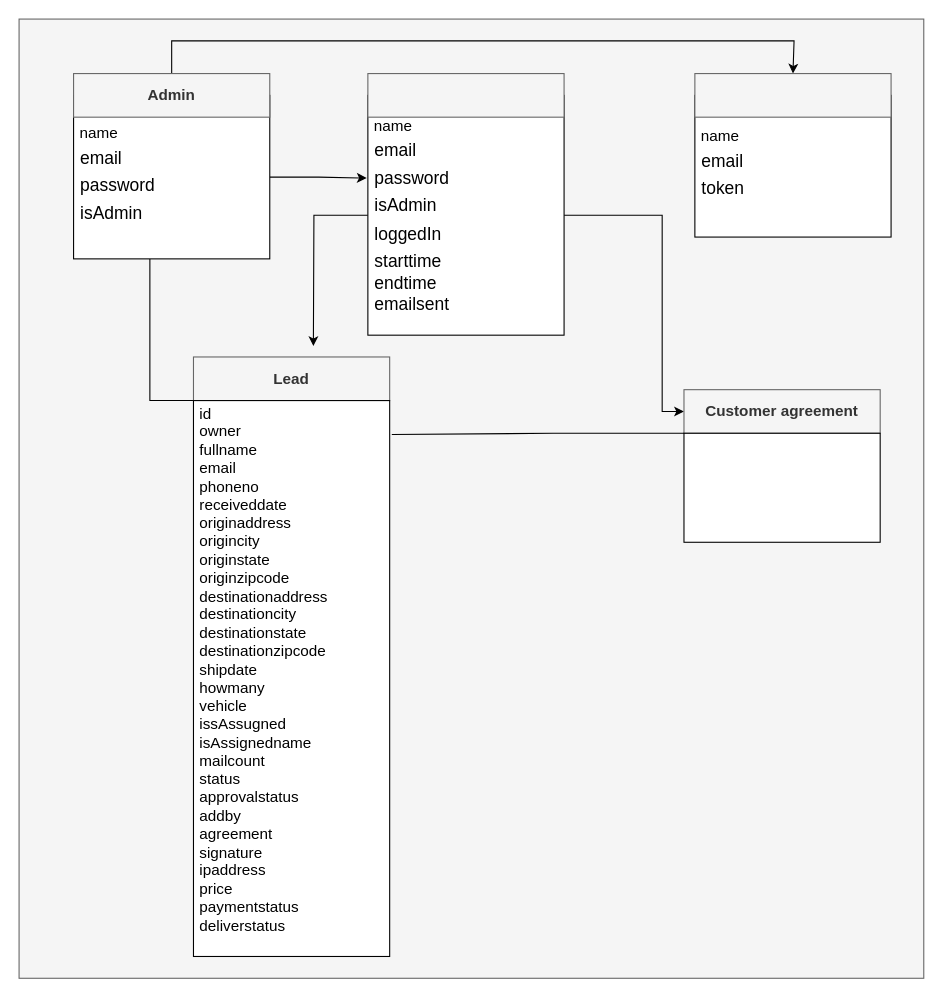
The diagram is 943 pixels wide and 997 high, and some of its shapes have lost their labels. The shapes that lost their labels are listed below. From the top down, each one's centre as x and y in pixels, then its label:
pixel 465 94: Agent
pixel 792 94: Vendor
pixel 781 487: Signature Ipaddress
